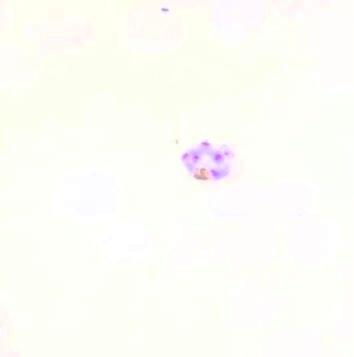Infected: (181, 133, 234, 183)
